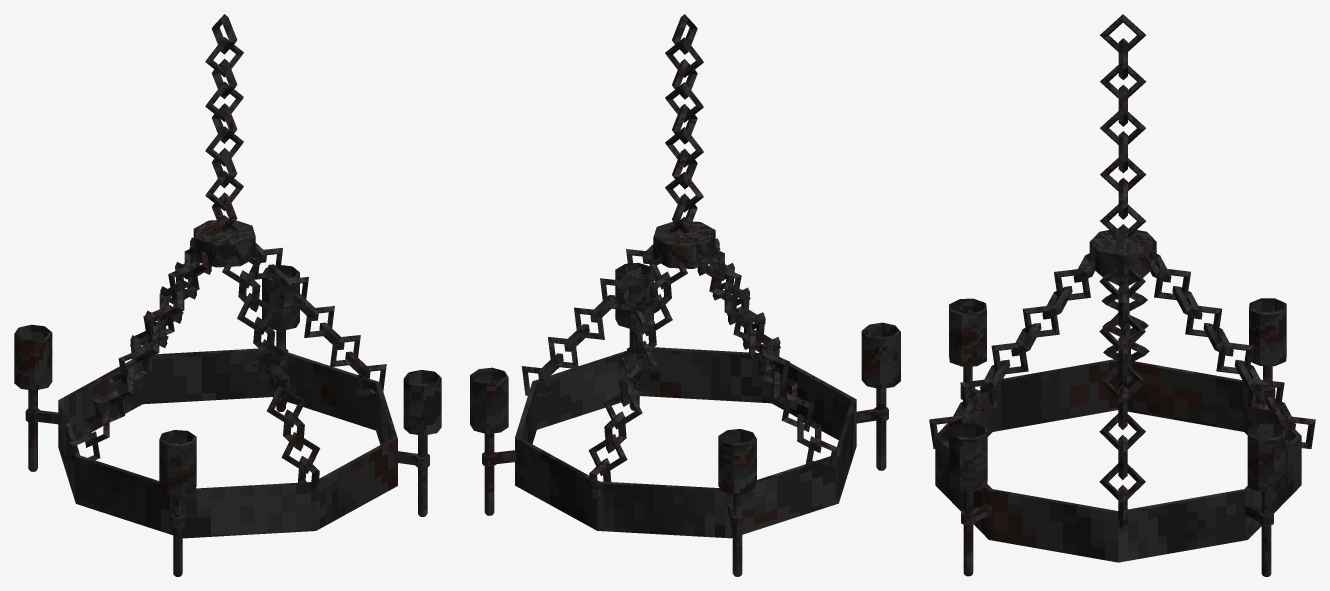
File: candelabro.glb
3 renders of one model, left to right at view 1: azimuth 30°, elevation 25°; view 2: azimuth 150°, elevation 25°; view 3: azimuth 270°, elevation 25°, orthographic. The views are drawn at different scales.
Visible parts, largest first — view 1: base, antorcha; view 2: base, antorcha; view 3: base, antorcha.
Boxes of the visible parts, left/top/right/bottom form: base: left=58, top=14, right=397, bottom=538; antorcha: left=14, top=265, right=441, bottom=576; base: left=515, top=14, right=856, bottom=538; antorcha: left=470, top=262, right=900, bottom=576; base: left=929, top=14, right=1315, bottom=562; antorcha: left=949, top=298, right=1286, bottom=576.
Size of the model in its own units: 0.8121 by 1.17 by 0.825.
Materials: 1 (1 with a texture image).
